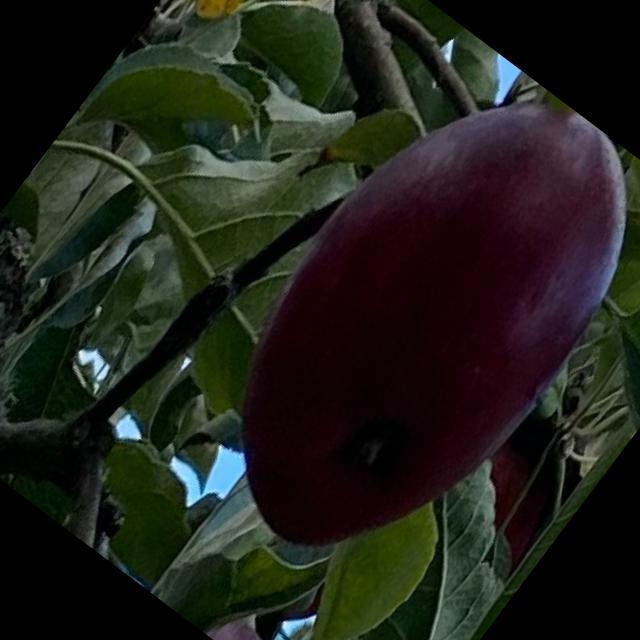Apples: (162, 35, 639, 611)
